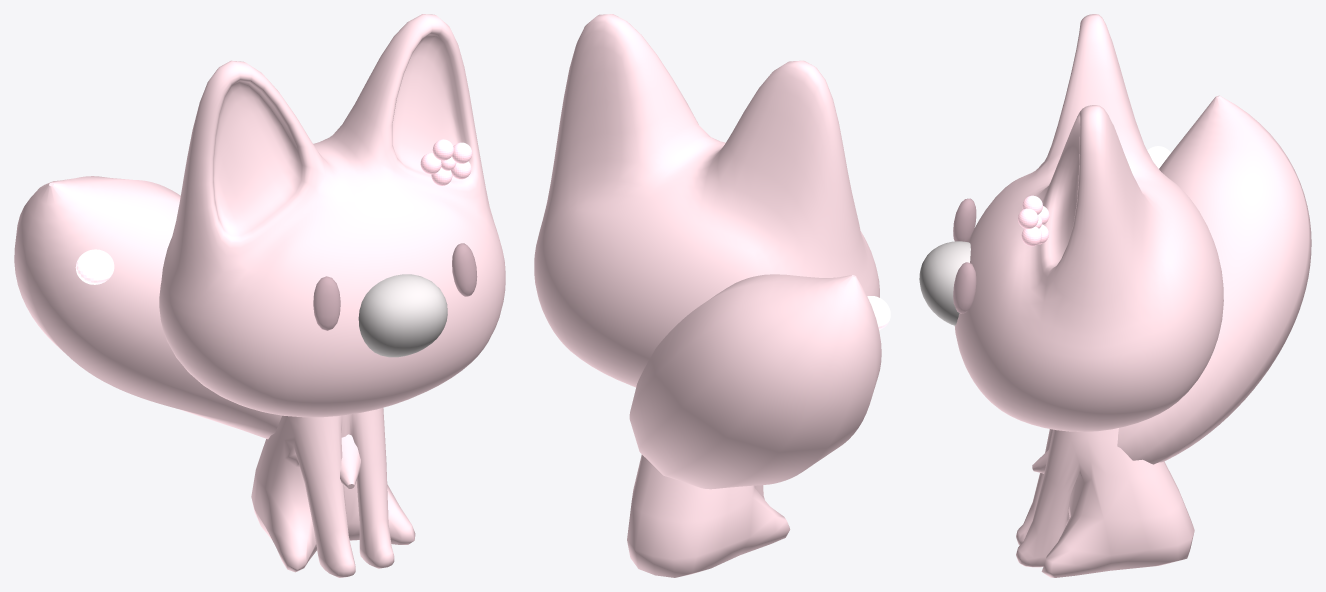
Rendered from fox-base-v10-strawberry-sweet.glb.
The picture shows the model from 3 angles, left to right: view 1: azimuth 30°, elevation 25°; view 2: azimuth 150°, elevation 25°; view 3: azimuth 270°, elevation 25°; orthographic projection. The views are drawn at different scales.
Parts seen in each view (by area): view 1: FoxBase_Head, FoxBase_Tail, FoxBase_Body, FoxBase_Muzzle, FoxBase_AccFlower, FoxBase_EyeRight, FoxBase_TailTip, FoxBase_EyeLeft; view 2: FoxBase_Head, FoxBase_Tail, FoxBase_Body, FoxBase_TailTip; view 3: FoxBase_Head, FoxBase_Tail, FoxBase_Body, FoxBase_Muzzle, FoxBase_AccFlower, FoxBase_EyeLeft, FoxBase_EyeRight.
Part boxes in pixels (x1,y1,x2,y2): FoxBase_Head: [159, 14, 505, 417]; FoxBase_Tail: [14, 176, 360, 488]; FoxBase_Body: [251, 408, 415, 577]; FoxBase_Muzzle: [358, 274, 447, 357]; FoxBase_AccFlower: [420, 139, 472, 185]; FoxBase_EyeRight: [313, 276, 340, 330]; FoxBase_TailTip: [75, 249, 114, 284]; FoxBase_EyeLeft: [452, 243, 477, 296]; FoxBase_Head: [534, 14, 879, 387]; FoxBase_Tail: [629, 274, 881, 489]; FoxBase_Body: [627, 454, 790, 577]; FoxBase_TailTip: [867, 296, 890, 330]; FoxBase_Head: [954, 14, 1223, 431]; FoxBase_Tail: [1032, 95, 1311, 473]; FoxBase_Body: [1016, 428, 1194, 577]; FoxBase_Muzzle: [919, 241, 970, 325]; FoxBase_AccFlower: [1018, 195, 1049, 246]; FoxBase_EyeLeft: [953, 262, 976, 313]; FoxBase_EyeRight: [953, 198, 976, 241].
Size of the model in its own units: 0.0997 by 0.123 by 0.0883.
